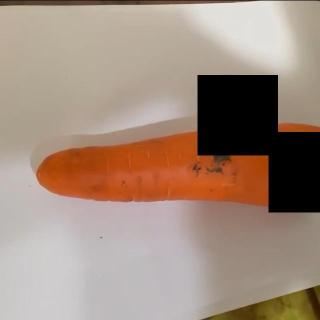carrot: (36, 121, 320, 212)
